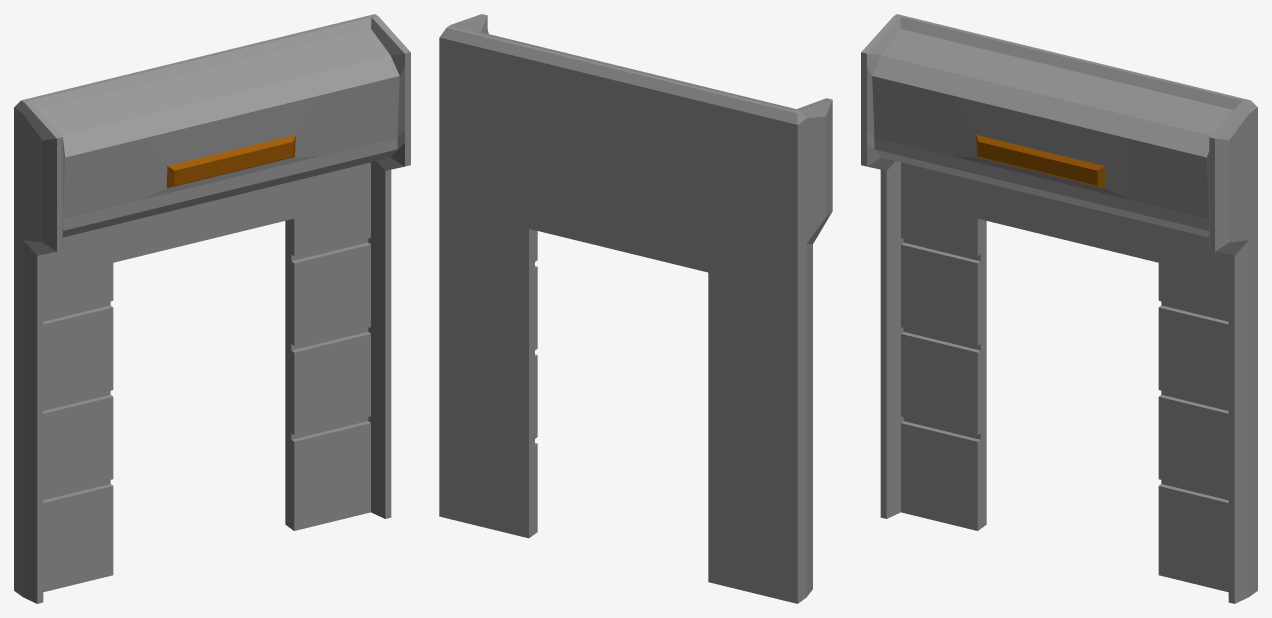
3 views of the same model, side by side, from view 1: azimuth 30°, elevation 25°; view 2: azimuth 150°, elevation 25°; view 3: azimuth 330°, elevation 25° (orthographic).
Parts seen in each view (by area): view 1: Pared 2; view 2: Pared 2; view 3: Pared 2.
Part boxes in pixels (x1,y1,x2,y2): Pared 2: (14,14,410,603); Pared 2: (439,14,832,603); Pared 2: (861,14,1257,603).
Size of the model in its own units: 183 by 238 by 34.3.
